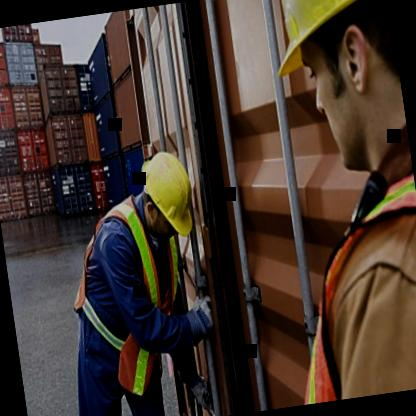helmet: (251, 0, 413, 192), (124, 130, 214, 269)
